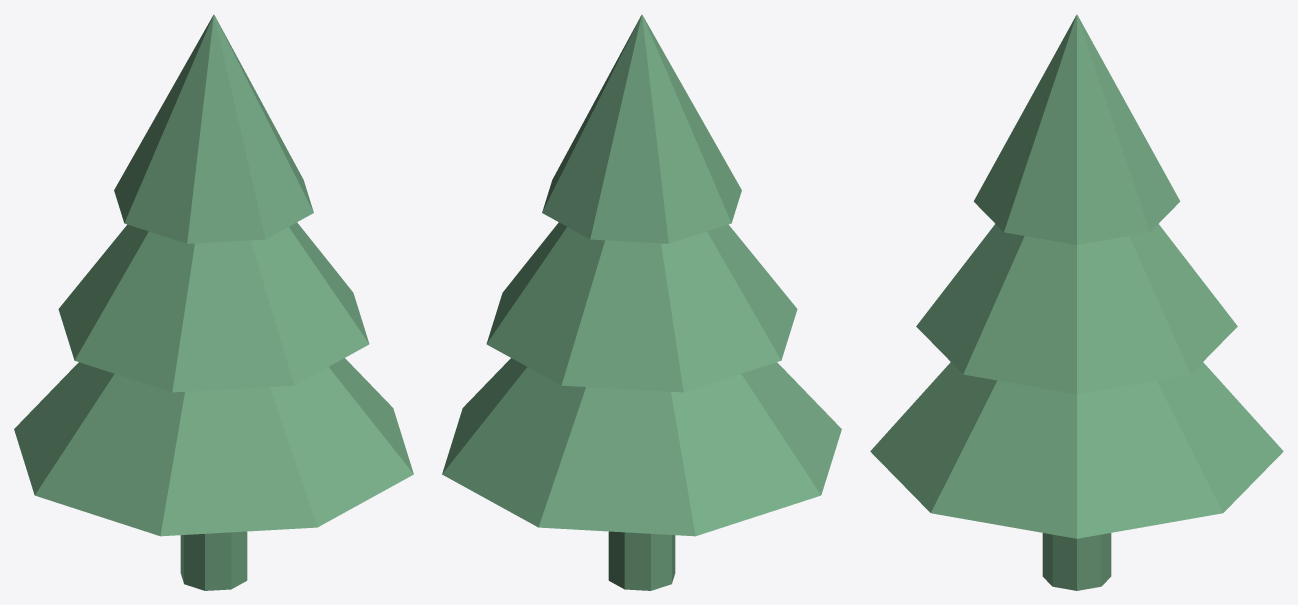
Rendered from PineTree.gltf.
3 views of the same model, side by side, from view 1: azimuth 30°, elevation 25°; view 2: azimuth 150°, elevation 25°; view 3: azimuth 270°, elevation 25° (orthographic).
Visible parts, largest first — view 1: PineTree; view 2: PineTree; view 3: PineTree.
Part boxes in pixels (bbox=[...]): PineTree: bbox=[14, 14, 413, 590]; PineTree: bbox=[442, 14, 841, 590]; PineTree: bbox=[870, 14, 1283, 590].
Bounding box in the file's own units: 3.6 × 5.4 × 3.6.
